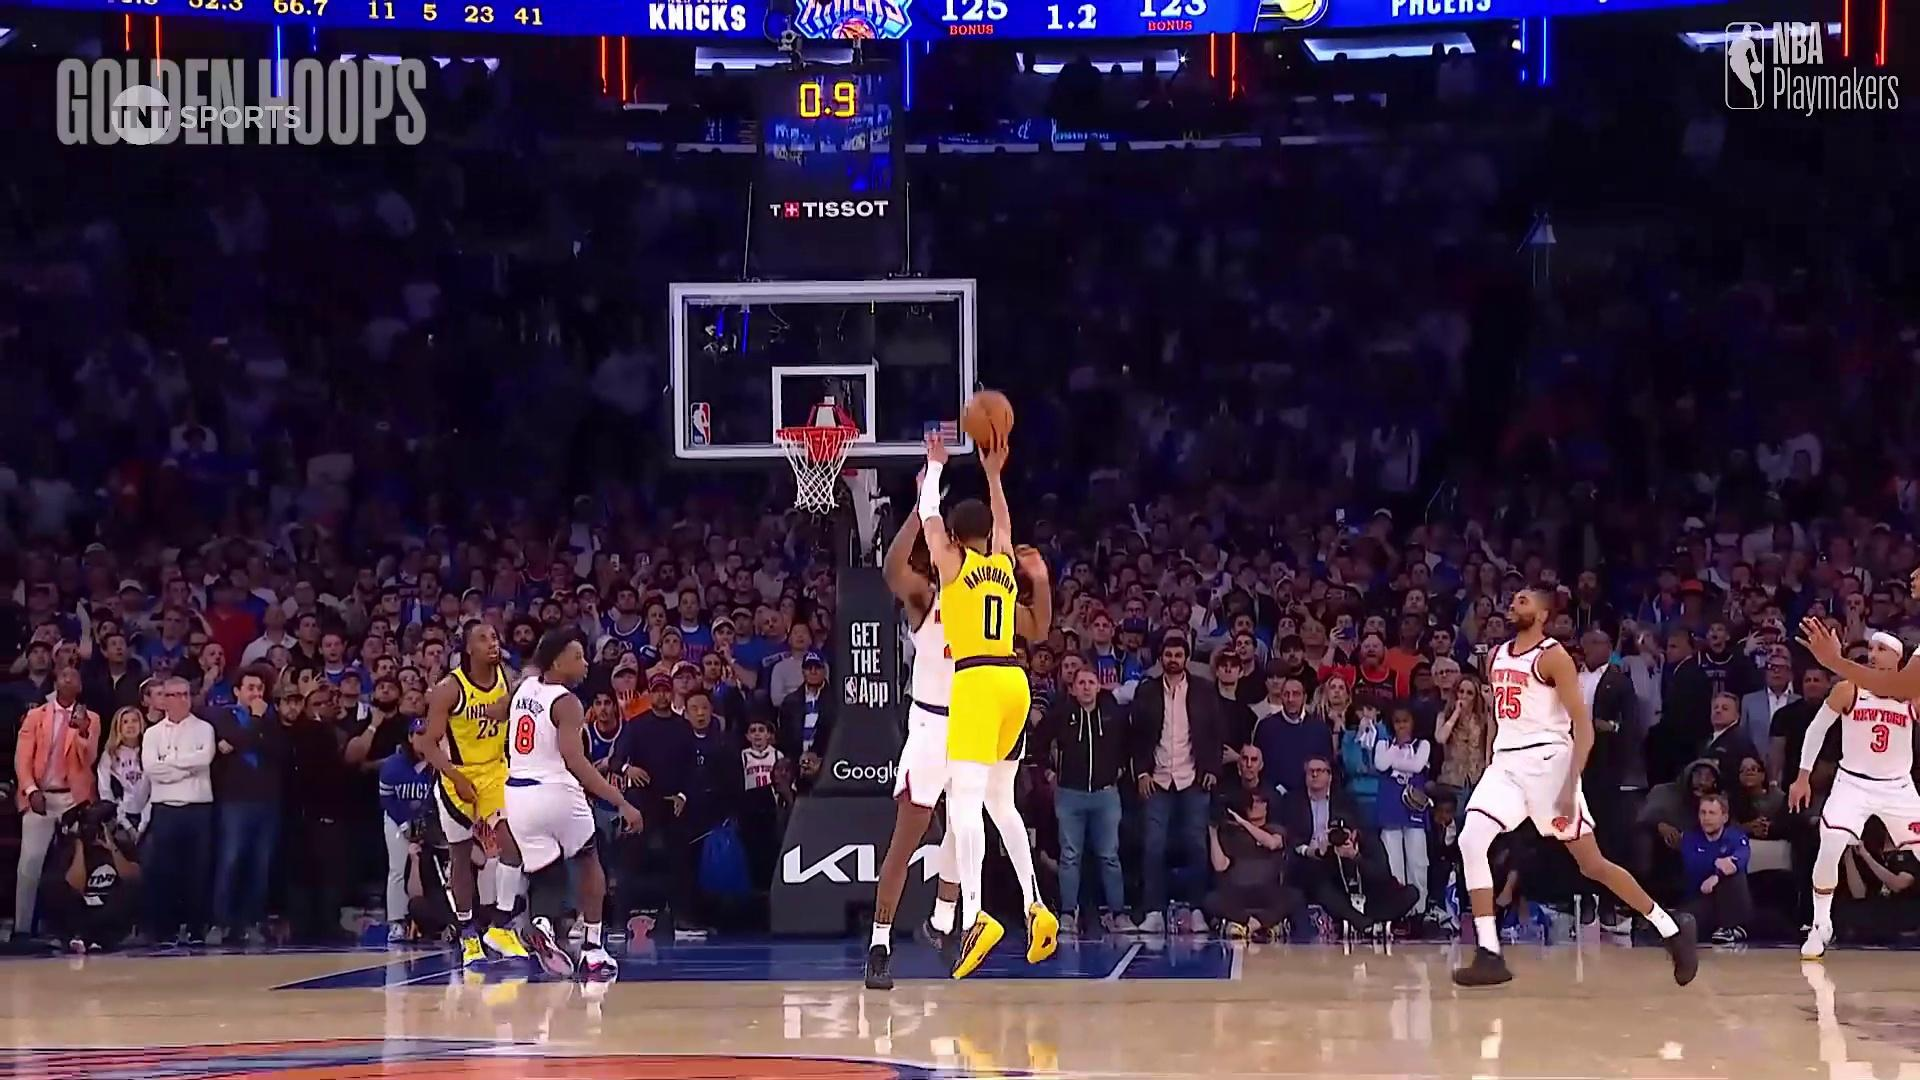ball: (952, 389, 1018, 450)
hoop: (775, 417, 856, 510)
